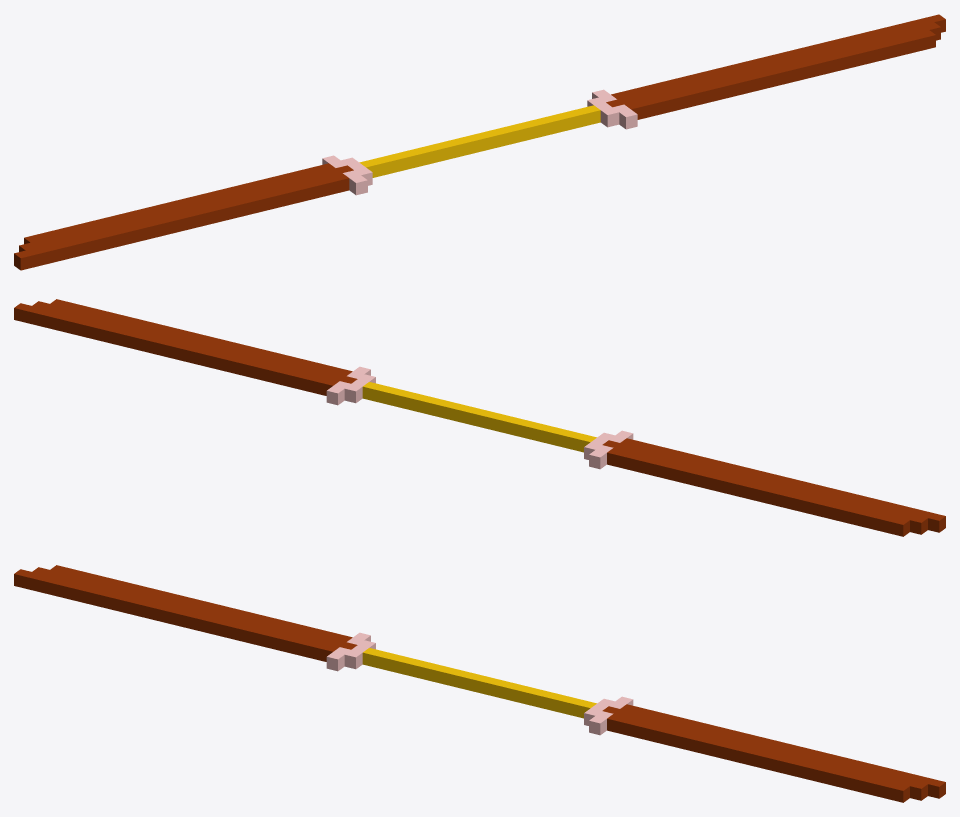
File: Weapon.obj
3 views of the same model, one above another, from view 1: azimuth 30°, elevation 25°; view 2: azimuth 150°, elevation 25°; view 3: azimuth 330°, elevation 25° (orthographic). The views are drawn at different scales.
Bounding box in the file's own units: 8 × 0.1 × 0.5.
Materials: 1 (1 with a texture image).
